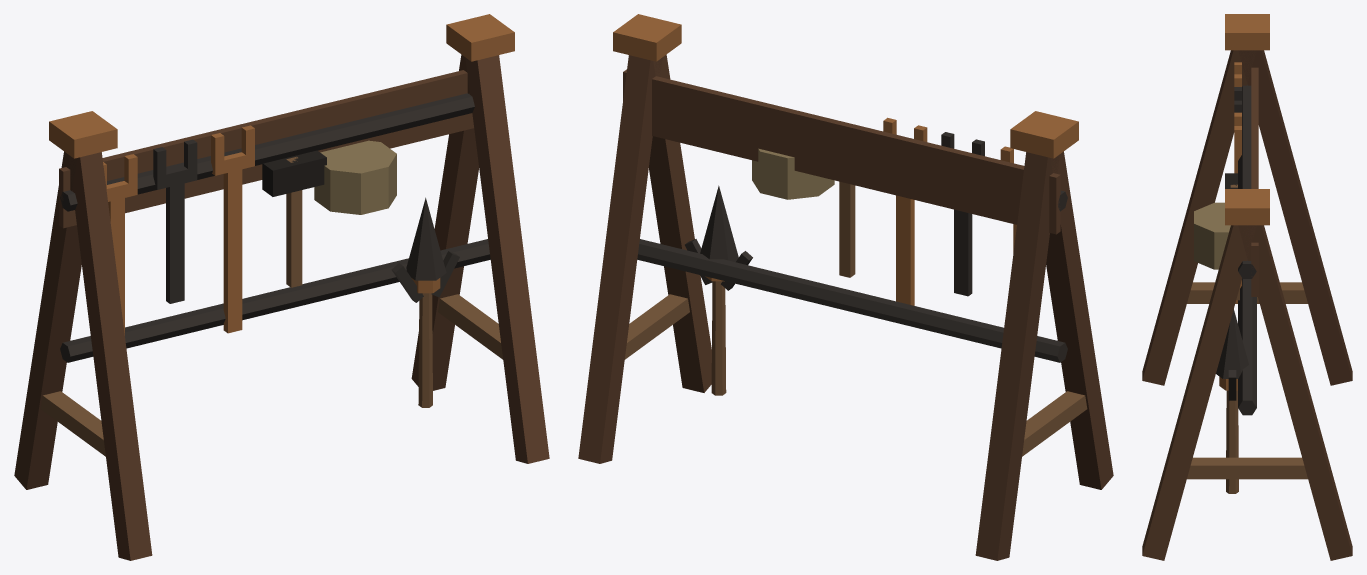
File: camp_tool_rack.glb
3 views of the same model, side by side, from view 1: azimuth 30°, elevation 25°; view 2: azimuth 150°, elevation 25°; view 3: azimuth 270°, elevation 25° (orthographic). The views are drawn at different scales.
Visible parts, largest first — view 1: Body; view 2: Body; view 3: Body.
Part boxes in pixels (box(x1,y1,x2,y2)): Body: box(14, 14, 549, 560); Body: box(578, 14, 1113, 560); Body: box(1142, 14, 1352, 560).
Bounding box in the file's own units: 2.44 × 2.09 × 1.12.
